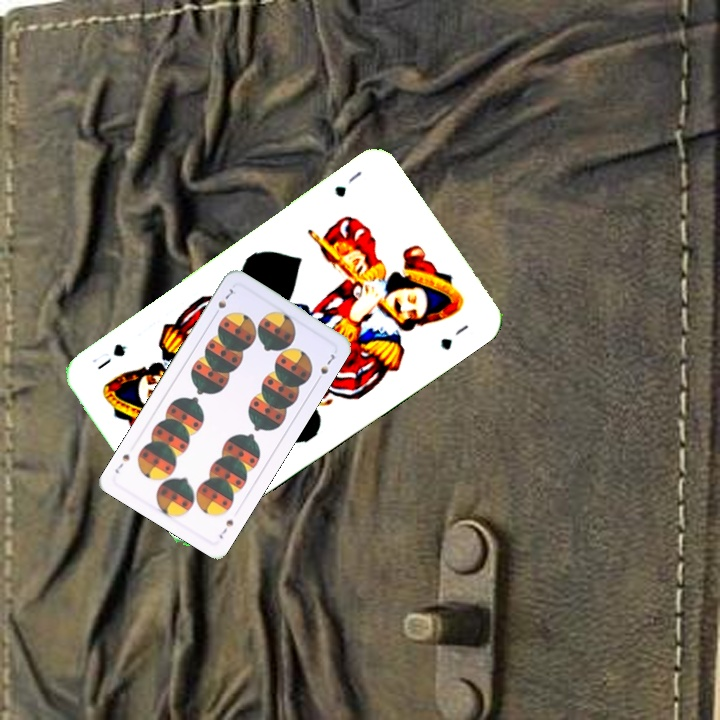GU: (330, 166, 364, 200)
S7: (210, 284, 236, 319), (215, 515, 236, 542)
